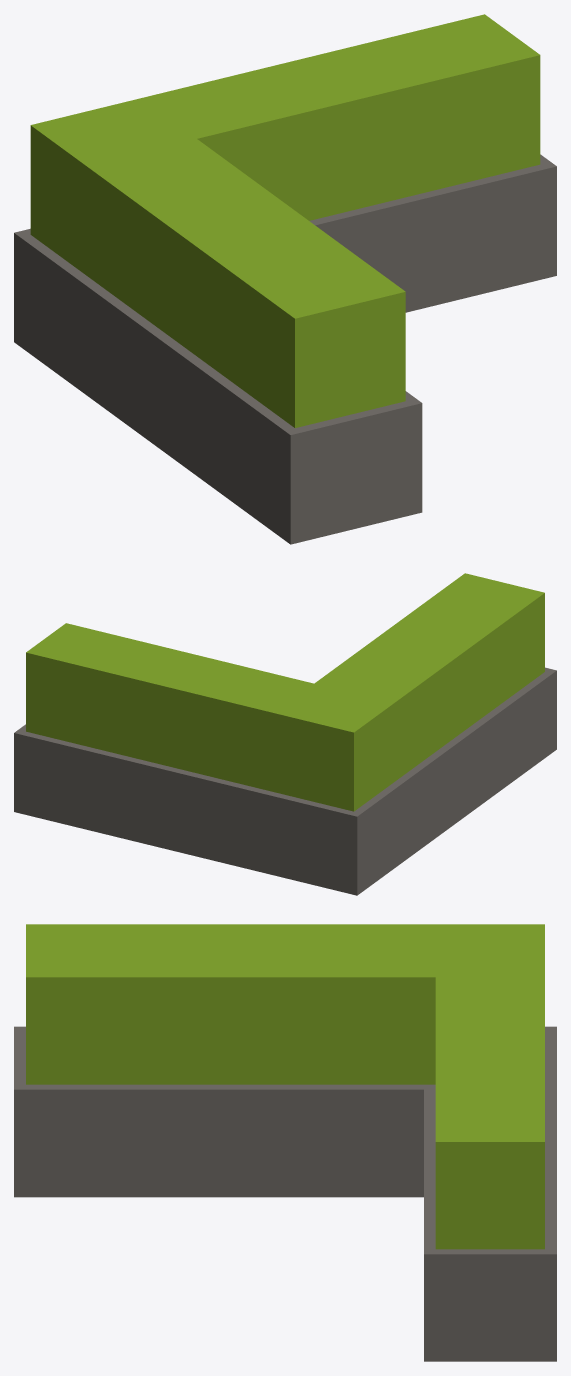
Rendered from dec plant5.FBX.
The picture shows the model from 3 angles, top to bottom: view 1: azimuth 30°, elevation 25°; view 2: azimuth 150°, elevation 25°; view 3: azimuth 270°, elevation 25°; orthographic projection. The views are drawn at different scales.
Parts seen in each view (by area): view 1: dec plant5; view 2: dec plant5; view 3: dec plant5.
Part boxes in pixels (x1,y1,x2,y2): dec plant5: [14, 14, 556, 544]; dec plant5: [14, 573, 556, 895]; dec plant5: [14, 924, 556, 1361].
Bounding box in the file's own units: 4.96 × 2.18 × 5.
